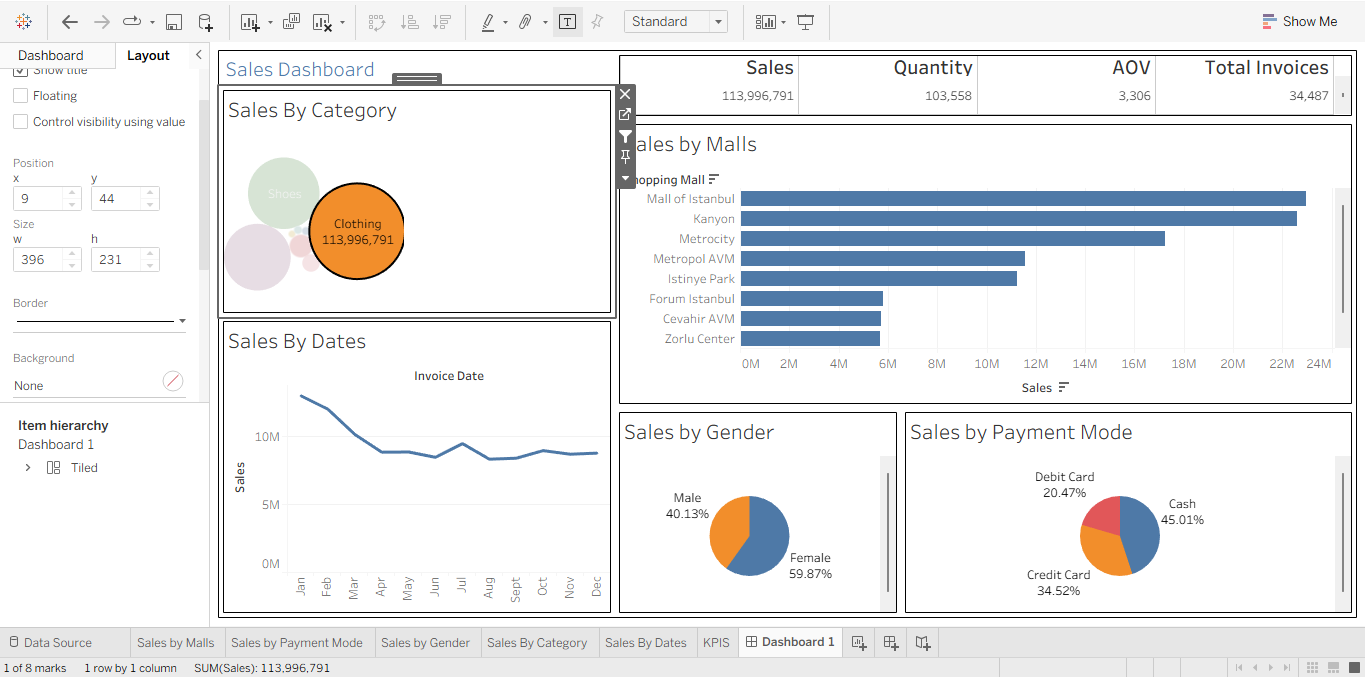

The page's visual inventory and layout, read from the dashboard file:
{"tool":"tableau","page":{"name":"Dashboard 1","canvas":[1000,1000],"units":"permille","ordinal":0},"visuals":[{"type":"text","box":[7.8,15.4,342.8,59.9]},{"type":"worksheet","title":"KPIS","mark":"Automatic","box":[350.6,15.4,641.6,118.2]},{"type":"worksheet","title":"Sales By Category","mark":"Circle","box":[7.8,75.3,342.8,409.2]},{"type":"worksheet","title":"Sales by Malls","mark":"Automatic","rows":["shopping_mall"],"cols":["Calculation_0240022102253568"],"box":[350.6,133.6,641.6,493.2]},{"type":"worksheet","title":"Sales By Dates","mark":"Automatic","rows":["Calculation_0240022102253568"],"cols":["invoice_date"],"box":[7.8,484.6,342.8,500]},{"type":"worksheet","title":"Sales by Gender","mark":"Pie","box":[350.6,626.7,247.6,357.9]},{"type":"worksheet","title":"Sales by Payment Mode","mark":"Pie","box":[598.2,626.7,393.9,357.9]}]}

Visuals, with their boxes on the dashboard's canvas, which has no fixed pixel size, in thousandths of its width and height (x1, y1, x2, y2). These are canvas units, not pixel positions in the 1365x677 screenshot, which may show the page scaled, cropped or inside an application window:
text: crop(8, 15, 351, 75)
"KPIS" worksheet: crop(351, 15, 992, 134)
"Sales By Category" worksheet (Circle marks): crop(8, 75, 351, 484)
"Sales by Malls" worksheet: crop(351, 134, 992, 627)
"Sales By Dates" worksheet: crop(8, 485, 351, 985)
"Sales by Gender" worksheet (Pie marks): crop(351, 627, 598, 985)
"Sales by Payment Mode" worksheet (Pie marks): crop(598, 627, 992, 985)
